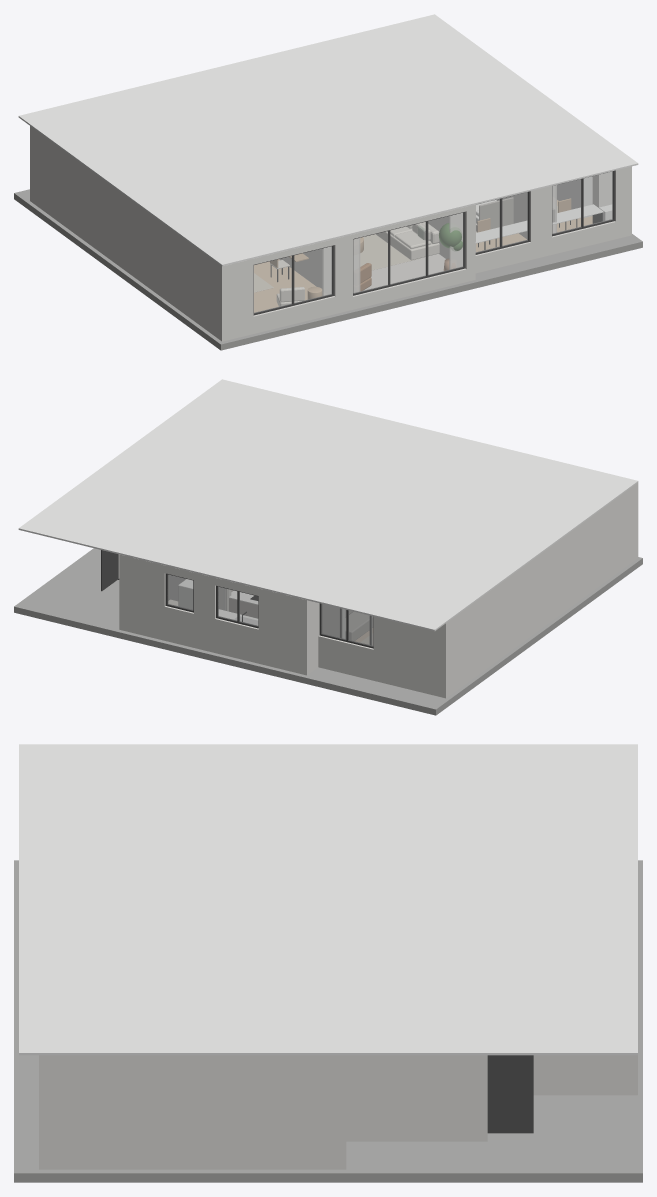
The model's file is brownstone_114.glb.
The picture shows the model from 3 angles, top to bottom: view 1: azimuth 30°, elevation 25°; view 2: azimuth 150°, elevation 25°; view 3: azimuth 270°, elevation 25°; orthographic projection. The views are drawn at different scales.
Visible parts, largest first — view 1: 천장, 외벽_서측_solid_end, 슬래브, 창_6_유리, 창_5_유리, 창_4_유리, 외벽_남측_거실안방_solid0, 창_3_유리, 외벽_남측_거실안방_sill1, 외벽_남측_거실안방_sill0, 외벽_남측_자녀방_solid1, 바닥_안방 (+18 smaller); view 2: 천장, 외벽_서측_solid_end, 슬래브, 외벽_북측_서재발코니_solid0, 외벽_북측_주방_solid0, 외벽_북측_주방_solid_end, 외벽_북측_서재발코니_sill0, 외벽_북측_주방_solid1, 외벽_북측_주방_sill0, 창_0_유리, 창_1_유리, 외벽_북측_주방_sill1 (+6 smaller); view 3: 천장, 외벽_동측_solid_end, 슬래브, 외벽_현관동측_solid_end, 외벽_동측_상부_solid_end, 문_0_문짝.
Part boxes in pixels (x1,y1,x2,y2): 천장: (18,14,638,266); 외벽_서측_solid_end: (30,126,222,341); 슬래브: (14,189,642,350); 창_6_유리: (353,213,463,293); 창_5_유리: (254,246,331,312); 창_4_유리: (552,171,612,233); 외벽_남측_거실안방_solid0: (222,259,253,341); 창_3_유리: (476,192,527,252); 외벽_남측_거실안방_sill1: (353,268,466,309); 외벽_남측_거실안방_sill0: (253,296,335,333); 외벽_남측_자녀방_solid1: (530,186,551,259); 바닥_안방: (254,259,316,312); 천장: (18,379,638,631); 외벽_서측_solid_end: (446,483,638,698); 슬래브: (14,548,642,715); 외벽_북측_서재발코니_solid0: (373,616,445,698); 외벽_북측_주방_solid0: (258,588,306,675); 외벽_북측_주방_solid_end: (119,554,165,640); 외벽_북측_서재발코니_sill0: (318,635,373,680); 외벽_북측_주방_solid1: (194,572,215,652); 외벽_북측_주방_sill0: (215,618,258,663); 창_0_유리: (321,604,372,645); 창_1_유리: (218,587,257,625); 외벽_북측_주방_sill1: (164,606,193,647); 천장: (19,744,637,1055); 외벽_동측_solid_end: (39,1055,345,1169); 슬래브: (14,860,642,1182); 외벽_현관동측_solid_end: (346,1055,487,1141); 외벽_동측_상부_solid_end: (533,1055,637,1095); 문_0_문짝: (487,1055,533,1133).
Size of the model in its own units: 14.49 by 2.75 by 12.31.
